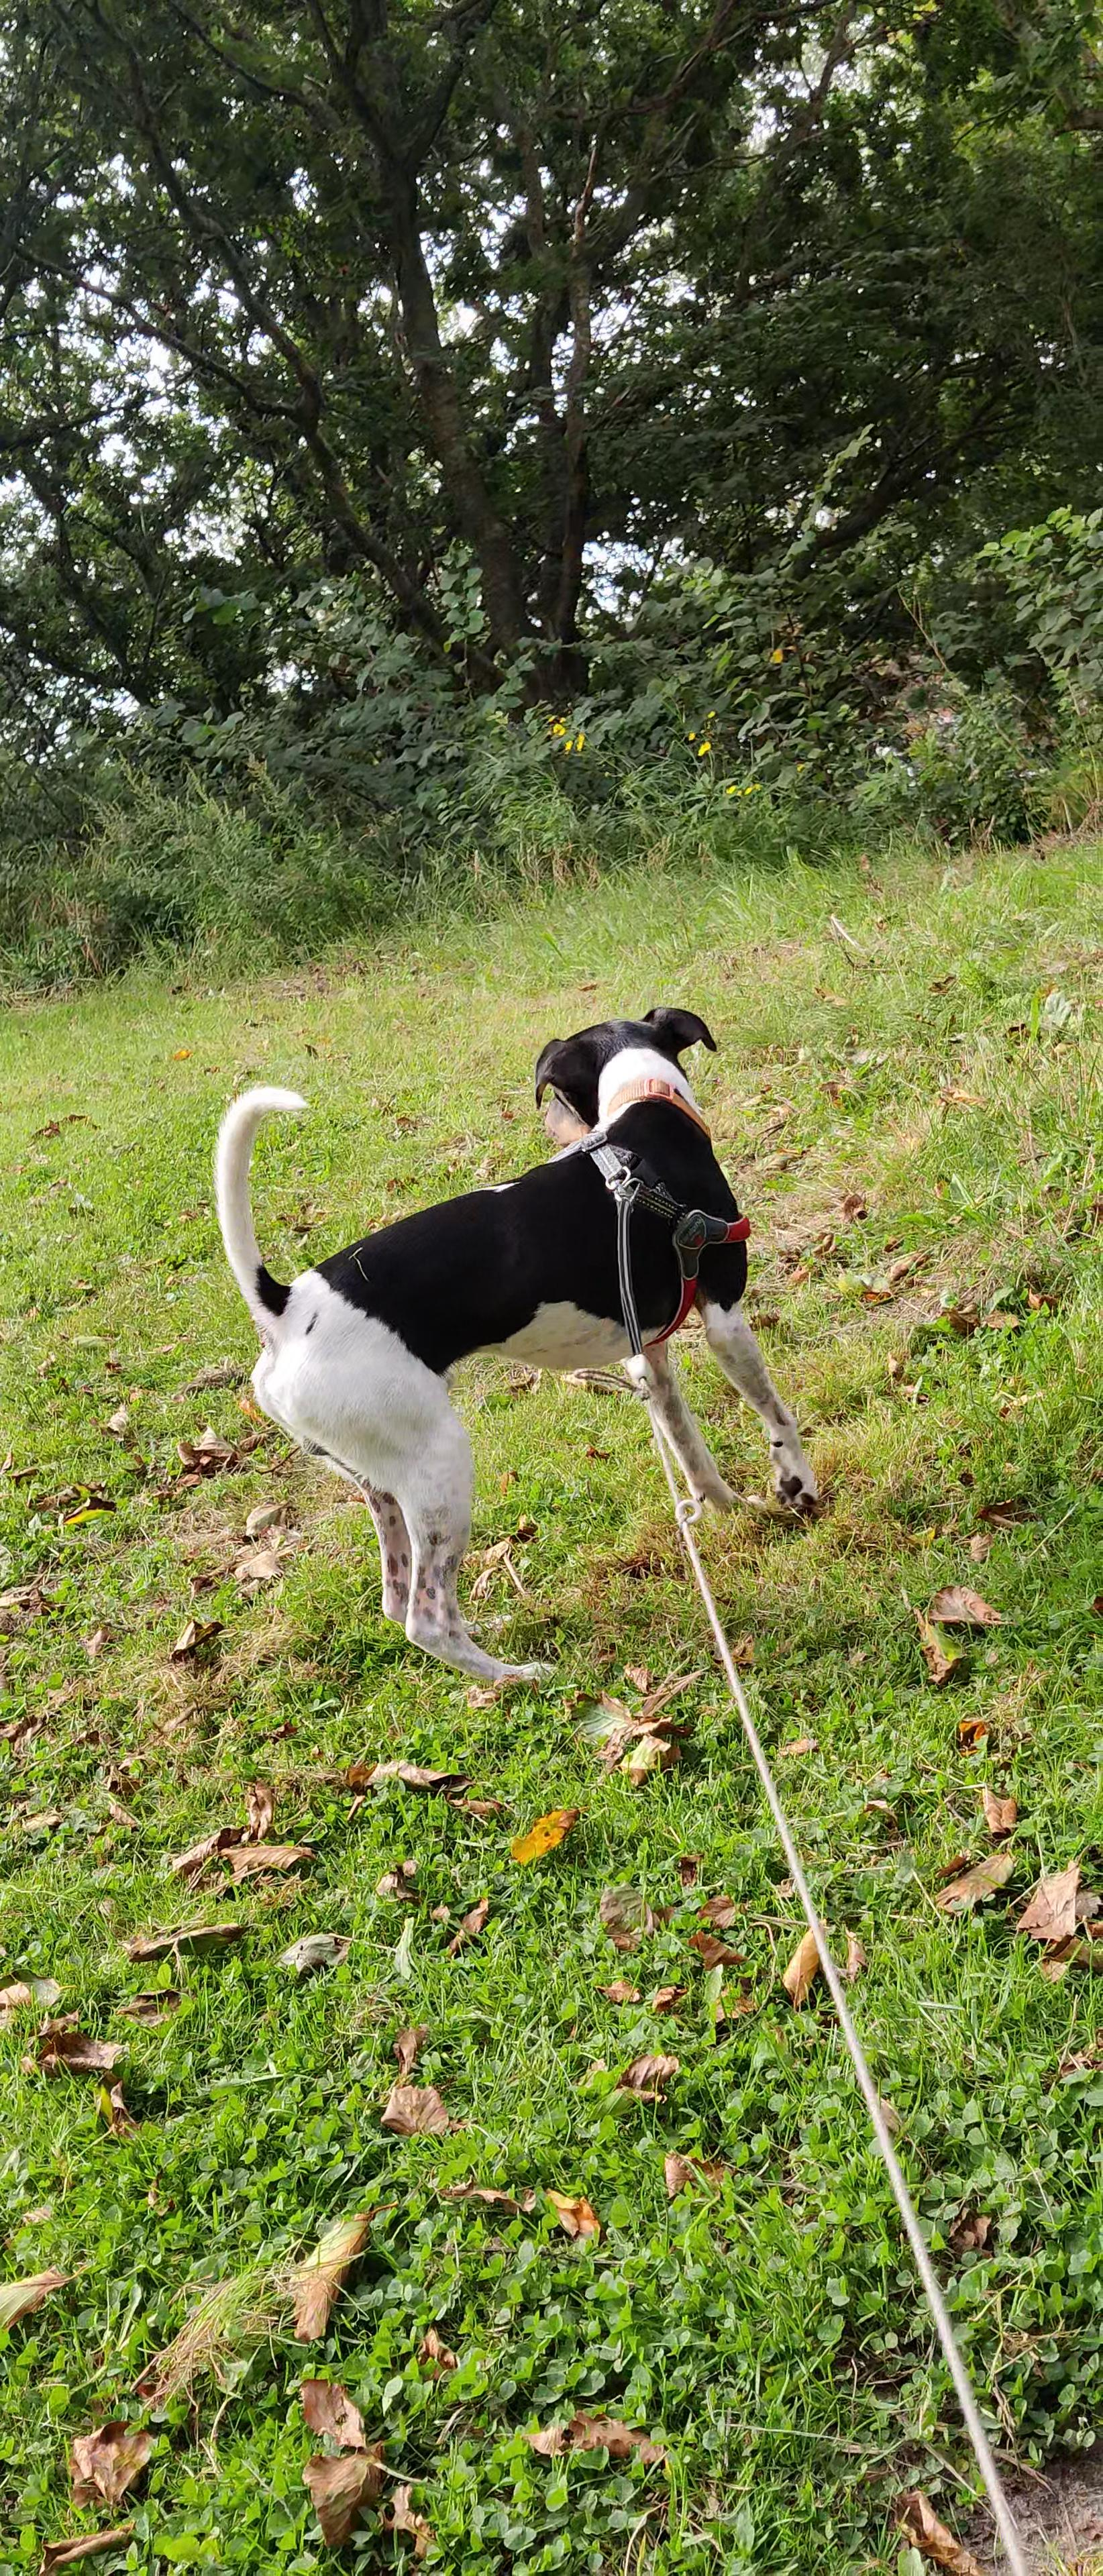Dog: (197, 986, 851, 1694)
